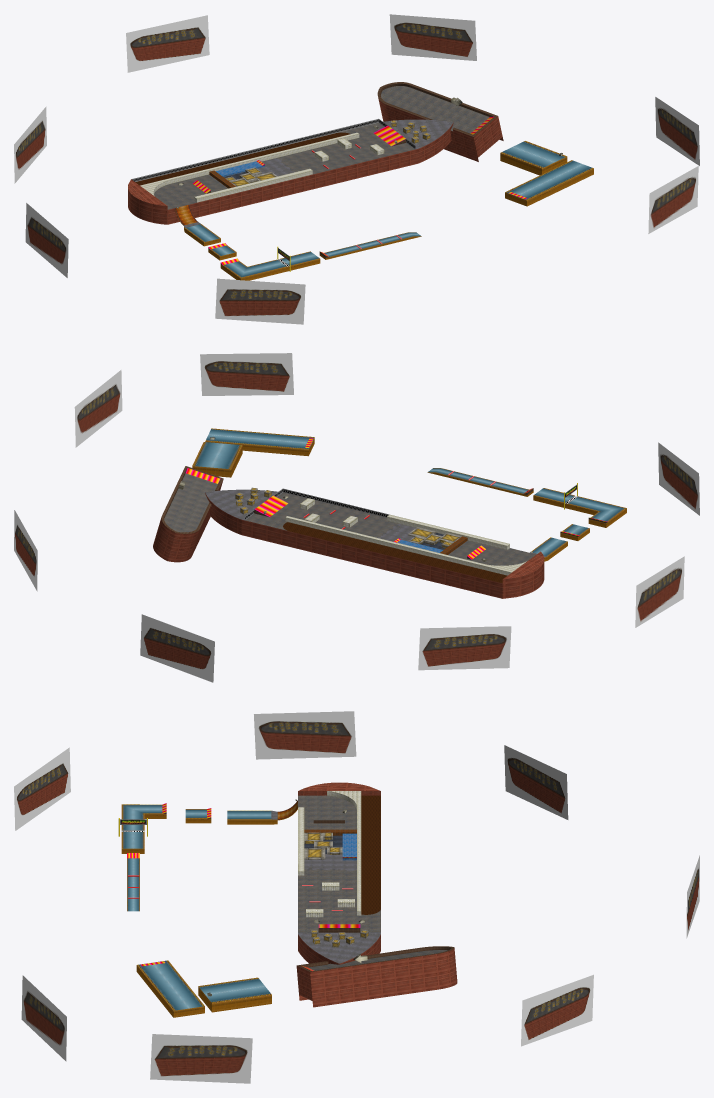
3 renders of one model, top to bottom at view 1: azimuth 30°, elevation 25°; view 2: azimuth 150°, elevation 25°; view 3: azimuth 270°, elevation 25°, orthographic. The views are drawn at different scales.
Visible parts, largest first — view 1: course-SKP--ship, course-SKP--wallwood, course-SKP--road2, course-SKP--road.006, course-SKP--crate, course-SKP--walwood2, course-SKP--metal, course-SKP--afence, course-SKP--mud, course-SKP--boostwall, course-SKP--box, course-SKP--boost.006; view 2: course-SKP--ship, course-SKP--wallwood, course-SKP--road2, course-SKP--road.006, course-SKP--crate, course-SKP--mud, course-SKP--walwood2, course-SKP--metal, course-SKP--box, course-SKP--boost.006, course-SKP--boostwall, course-SKP--afence; view 3: course-SKP--ship, course-SKP--wallwood, course-SKP--road2, course-SKP--road.006, course-SKP--mud, course-SKP--metal, course-SKP--walwood2, course-SKP--crate, course-SKP--box, course-SKP--boostwall.
Boxes of the visible parts, left/top/right/bottom form: course-SKP--ship: left=14, top=14, right=699, bottom=324; course-SKP--wallwood: left=128, top=98, right=503, bottom=224; course-SKP--road2: left=154, top=86, right=489, bottom=209; course-SKP--road.006: left=185, top=141, right=593, bottom=278; course-SKP--crate: left=140, top=132, right=384, bottom=202; course-SKP--walwood2: left=175, top=153, right=593, bottom=280; course-SKP--metal: left=184, top=119, right=453, bottom=227; course-SKP--afence: left=131, top=119, right=415, bottom=181; course-SKP--mud: left=135, top=132, right=350, bottom=185; course-SKP--boostwall: left=207, top=82, right=497, bottom=264; course-SKP--box: left=225, top=120, right=430, bottom=186; course-SKP--boost.006: left=192, top=116, right=526, bottom=264; course-SKP--ship: left=14, top=353, right=699, bottom=682; course-SKP--wallwood: left=153, top=480, right=544, bottom=598; course-SKP--road2: left=164, top=473, right=536, bottom=565; course-SKP--road.006: left=192, top=428, right=626, bottom=556; course-SKP--crate: left=285, top=498, right=526, bottom=575; course-SKP--mud: left=283, top=522, right=506, bottom=583; course-SKP--walwood2: left=192, top=438, right=626, bottom=561; course-SKP--metal: left=205, top=489, right=547, bottom=557; course-SKP--box: left=235, top=487, right=461, bottom=547; course-SKP--boost.006: left=186, top=438, right=607, bottom=559; course-SKP--boostwall: left=161, top=466, right=607, bottom=559; course-SKP--afence: left=245, top=488, right=389, bottom=519; course-SKP--ship: left=14, top=711, right=699, bottom=1083; course-SKP--wallwood: left=296, top=782, right=457, bottom=1007; course-SKP--road2: left=298, top=795, right=447, bottom=970; course-SKP--road.006: left=121, top=804, right=271, bottom=1010; course-SKP--mud: left=361, top=795, right=380, bottom=914; course-SKP--metal: left=271, top=810, right=380, bottom=963; course-SKP--walwood2: left=121, top=808, right=297, bottom=1017; course-SKP--crate: left=298, top=791, right=361, bottom=917; course-SKP--box: left=304, top=832, right=368, bottom=947; course-SKP--boostwall: left=163, top=812, right=454, bottom=971.
Size of what is drawn, in the model's own units: 122090 by 9245 by 109162.
Materials: 21 (21 with a texture image).
